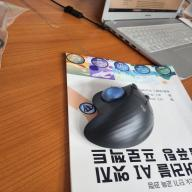mouse: (81, 82, 158, 150)
